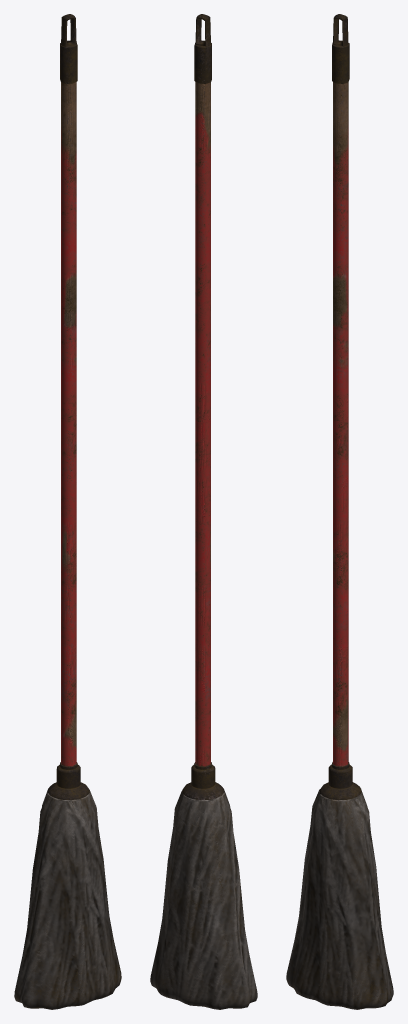
File: Mop.fbx
3 renders of one model, left to right at view 1: azimuth 30°, elevation 25°; view 2: azimuth 150°, elevation 25°; view 3: azimuth 330°, elevation 25°, orthographic.
Parts seen in each view (by area): view 1: Mop; view 2: Mop; view 3: Mop.
Boxes of the visible parts, x1,y1,x2,y2 form: Mop: [14, 14, 121, 1009]; Mop: [150, 14, 257, 1009]; Mop: [286, 14, 393, 1009].
Bounding box in the file's own units: 22.7 × 214 × 13.28.
